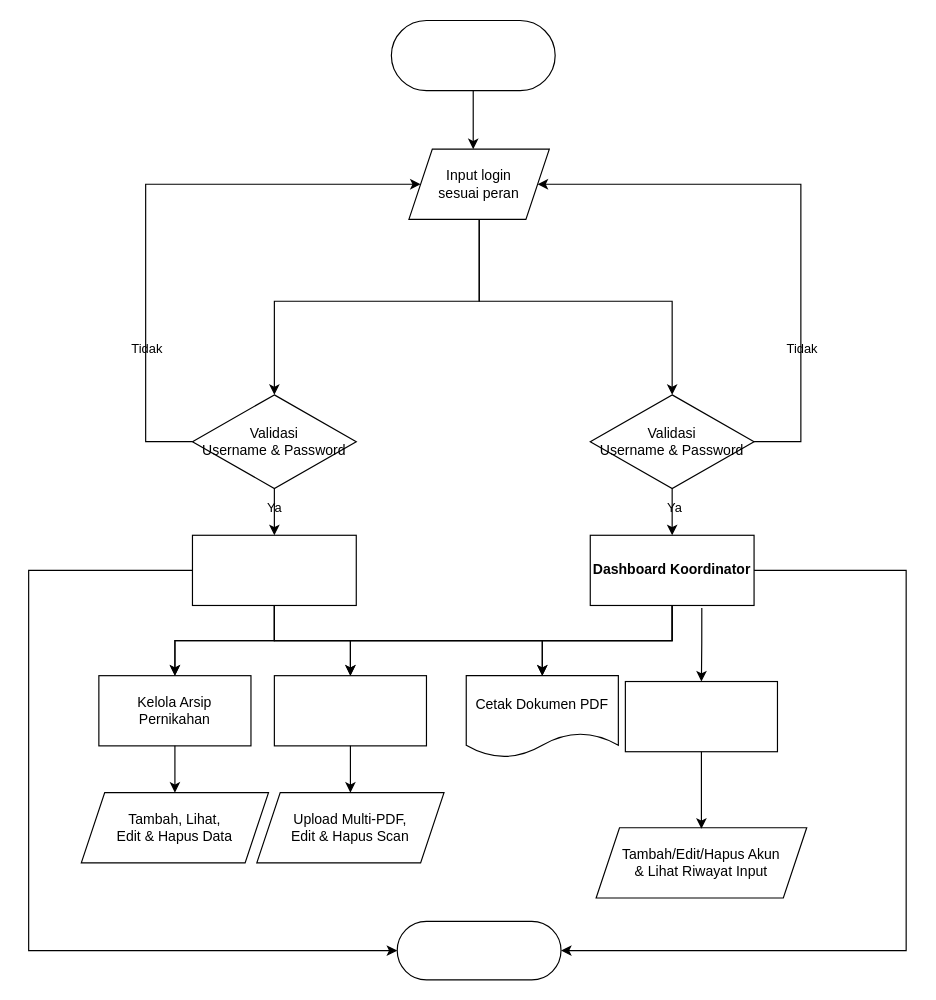
Image size: 936x1000. Some labels were removed from this diagram. The shapes that lost their labels are listed below. From the top down, each one's box as (x1, y1, x2, y2) in pixels, then its label:
(390, 19, 555, 91): Login
(191, 534, 356, 605): Dashboard Petugas
(273, 675, 426, 746): Arsip Scan PDF
(624, 680, 777, 752): Manajemen Petugas
(396, 920, 561, 980): Logout
